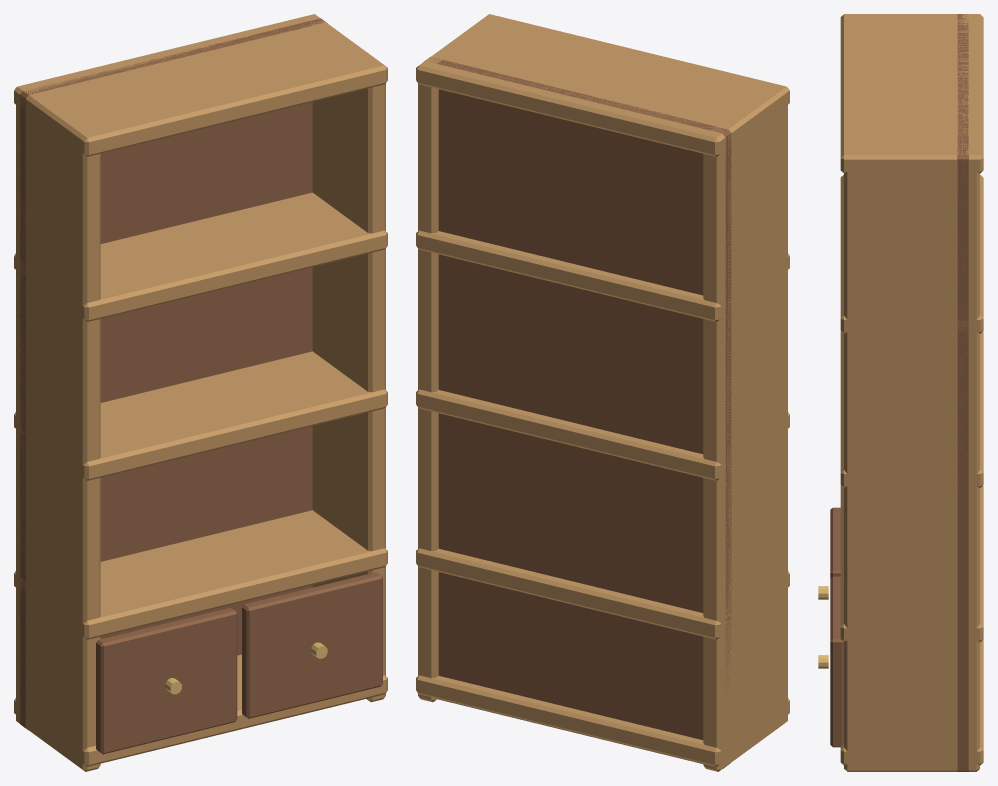
Rendered from SM_CH_Paper_Bookshelf.fbx.
3 views of the same model, side by side, from view 1: azimuth 30°, elevation 25°; view 2: azimuth 150°, elevation 25°; view 3: azimuth 270°, elevation 25° (orthographic). The views are drawn at different scales.
Visible parts, largest first — view 1: SM_CH_Paper_Bookshelf; view 2: SM_CH_Paper_Bookshelf; view 3: SM_CH_Paper_Bookshelf.
Part boxes in pixels (x1,y1,x2,y2): SM_CH_Paper_Bookshelf: (14,14,387,771); SM_CH_Paper_Bookshelf: (416,14,789,771); SM_CH_Paper_Bookshelf: (818,14,983,771).
Bounding box in the file's own units: 10000 × 4850 × 20000.
